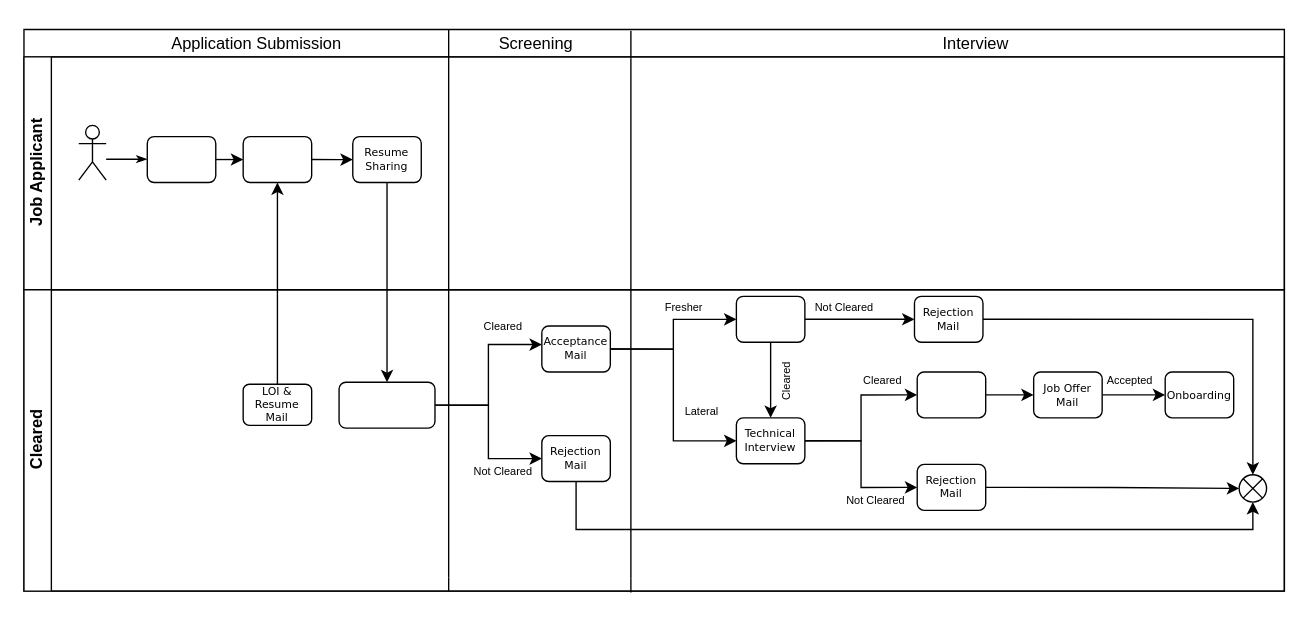
Some shapes in this 1308 by 618 pixel diagram are drawn without their labels. Here are the shapes that lost their labels. From the top down, the box of each, then its label:
(77, 124, 106, 180): Candidate
(146, 135, 216, 182): Interested
(242, 135, 312, 182): Job Apply
(735, 295, 805, 342): Group Discussion
(338, 381, 435, 428): Resume review & communication
(916, 371, 986, 418): Fitment Round
